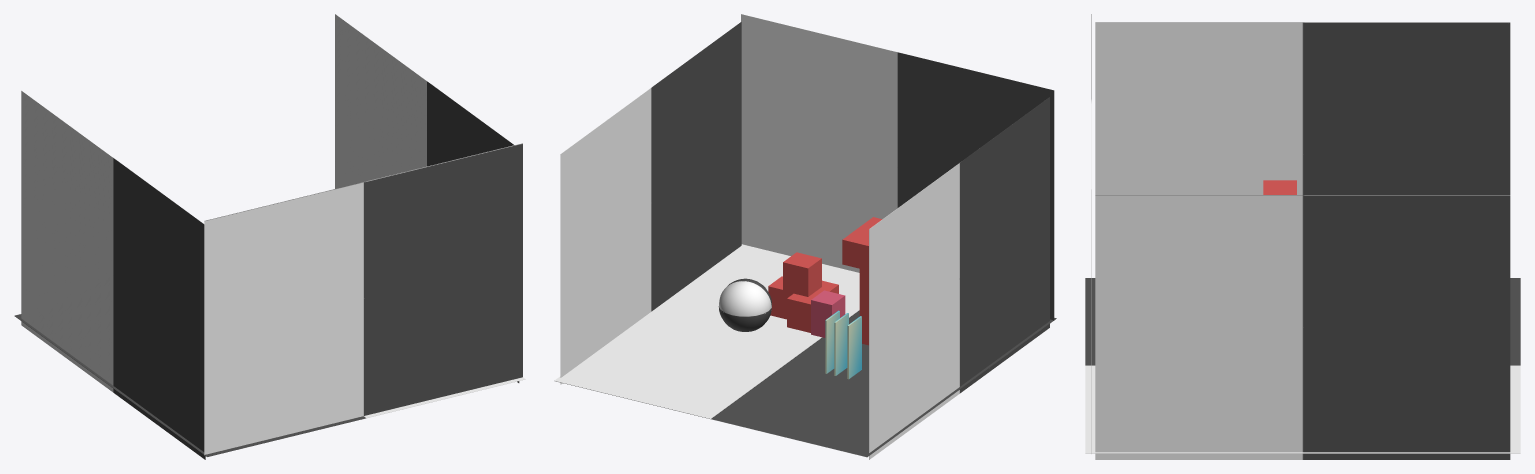
Rendered from settings.fbx.
3 views of the same model, side by side, from view 1: azimuth 30°, elevation 25°; view 2: azimuth 150°, elevation 25°; view 3: azimuth 270°, elevation 25° (orthographic). The views are drawn at different scales.
Visible parts, largest first — view 1: polySurface35; view 2: polySurface35; view 3: polySurface35.
Part boxes in pixels (x1,y1,x2,y2): polySurface35: [14, 14, 525, 459]; polySurface35: [554, 14, 1056, 459]; polySurface35: [1085, 14, 1520, 459].
Bounding box in the file's own units: 383 × 276 × 402.
Materials: 4 (2 with a texture image).
